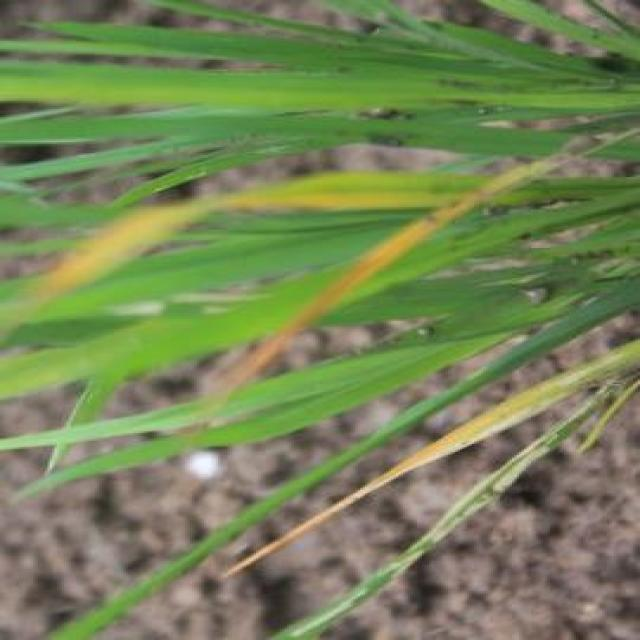Tungro: (212, 376, 564, 584), (268, 162, 530, 336), (46, 194, 225, 301)
